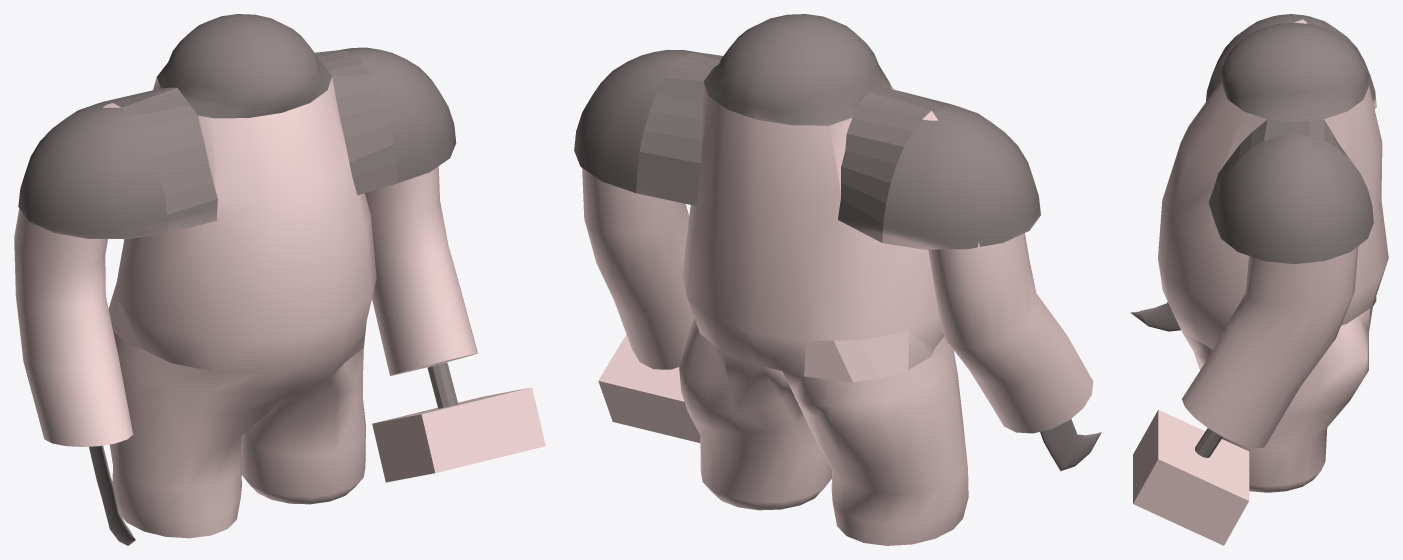
The model's file is TankBoiiii.fbx.
3 views of the same model, side by side, from view 1: azimuth 30°, elevation 25°; view 2: azimuth 150°, elevation 25°; view 3: azimuth 270°, elevation 25° (orthographic). The views are drawn at different scales.
Parts seen in each view (by area): view 1: Tank_Knight; view 2: Tank_Knight; view 3: Tank_Knight.
Boxes of the visible parts, <box> form: Tank_Knight: <box>14,14,545,545</box>; Tank_Knight: <box>574,14,1101,545</box>; Tank_Knight: <box>1130,14,1388,545</box>.
Size of the model in its own units: 5.5 by 5.43 by 3.02.
